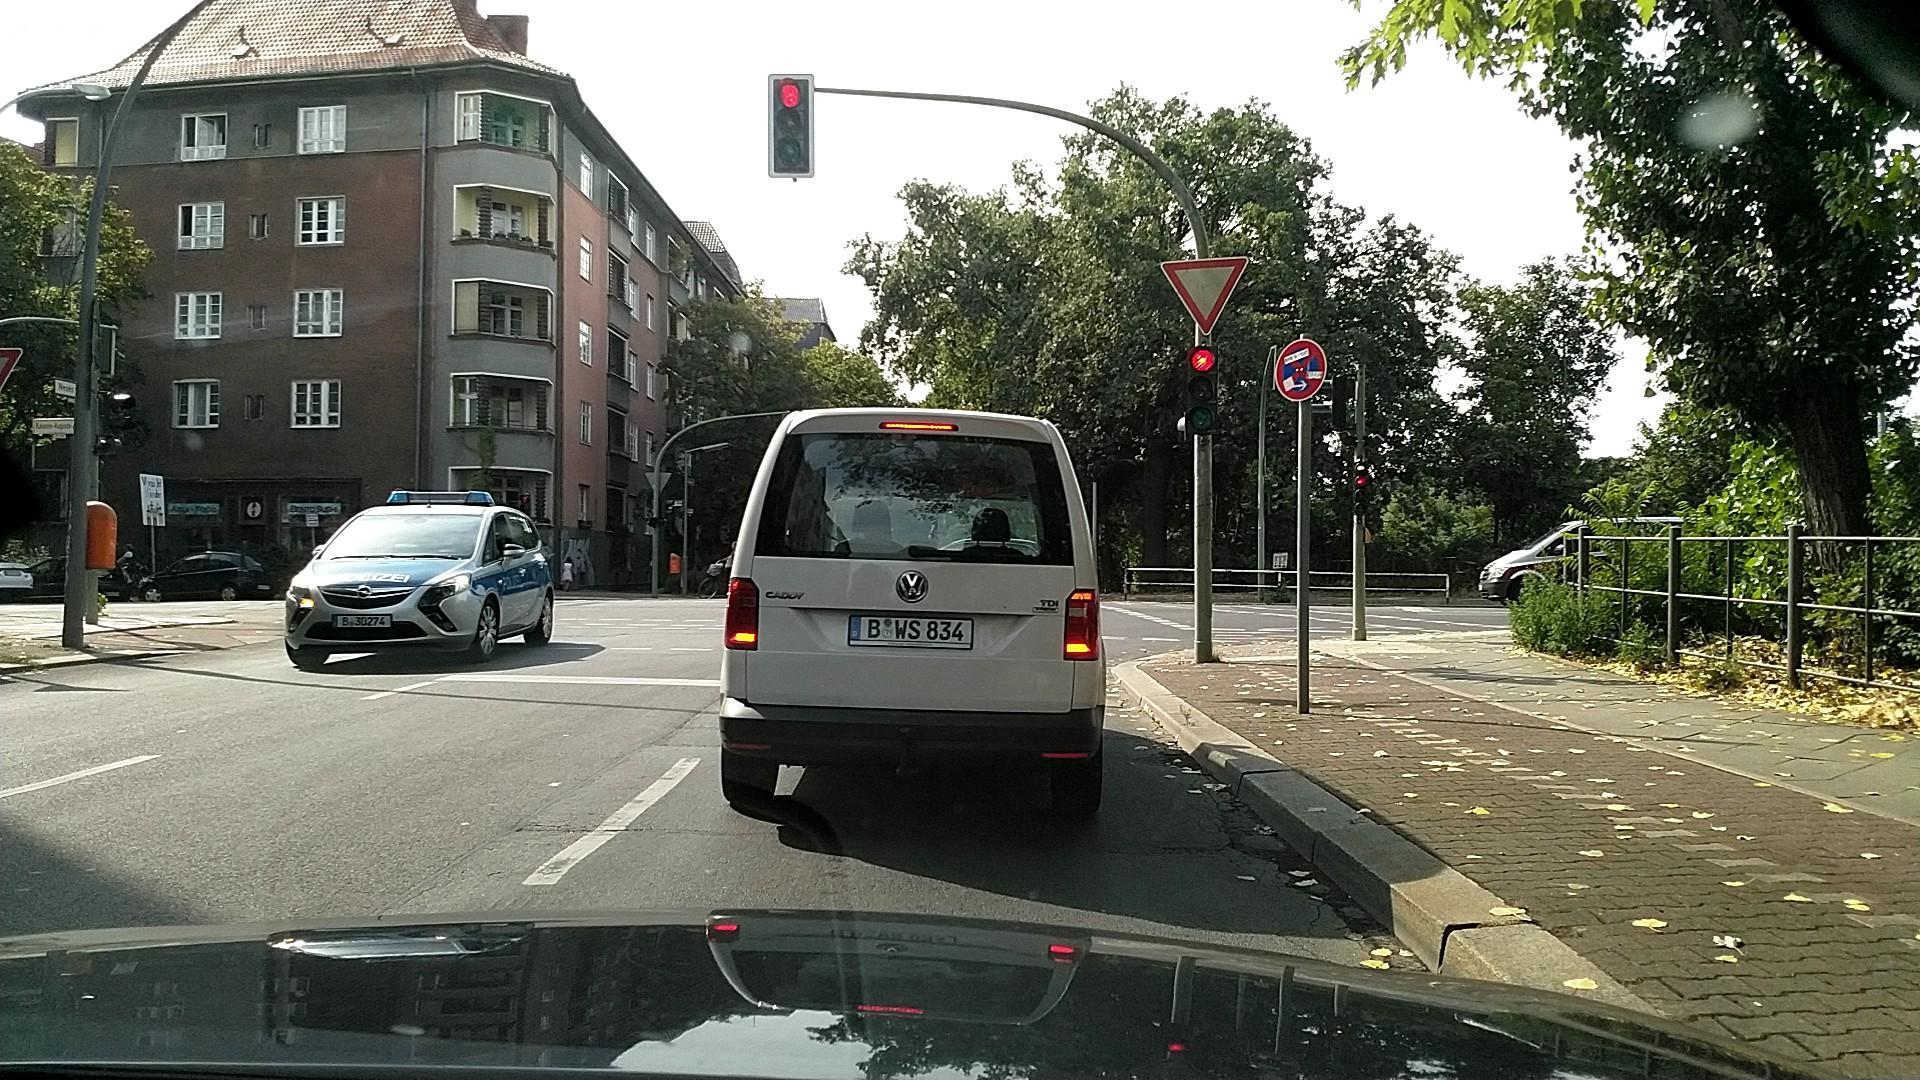Vehicle registration plate: (848, 616, 971, 649), (332, 615, 390, 628)
